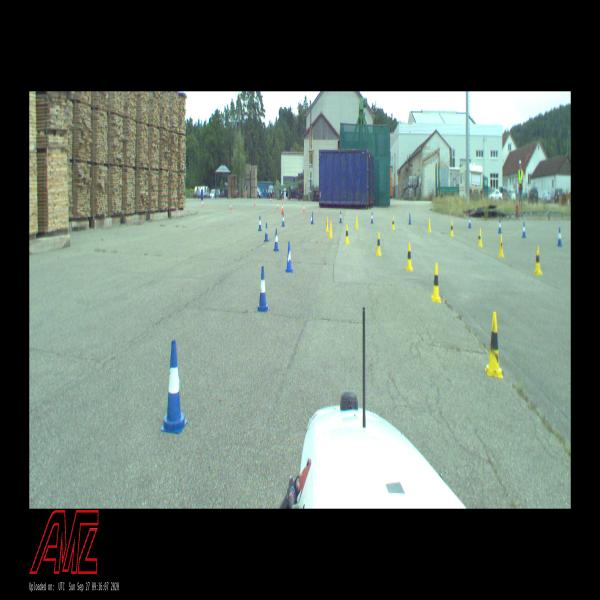blue_cone: (160, 340, 188, 434), (257, 266, 269, 311), (285, 242, 293, 272), (273, 228, 279, 251), (557, 227, 562, 246), (264, 222, 268, 240), (258, 215, 262, 231), (522, 222, 526, 238), (498, 218, 502, 233), (281, 214, 285, 226), (468, 215, 471, 228), (408, 212, 411, 225), (339, 211, 342, 223), (311, 212, 314, 224), (371, 211, 373, 224)
orange_cone: (281, 203, 284, 214), (303, 204, 305, 213), (277, 202, 279, 210), (254, 199, 256, 206), (270, 197, 272, 202), (284, 199, 286, 204), (202, 199, 203, 207), (230, 203, 231, 210)
yellow_cone: (485, 312, 503, 378), (431, 262, 441, 302), (534, 245, 542, 275), (406, 242, 413, 270), (376, 232, 382, 255), (498, 235, 504, 257), (345, 225, 349, 244), (478, 228, 482, 246), (329, 221, 333, 239), (325, 216, 329, 232), (391, 216, 395, 229), (450, 221, 453, 236), (355, 215, 358, 229), (428, 219, 431, 232)
